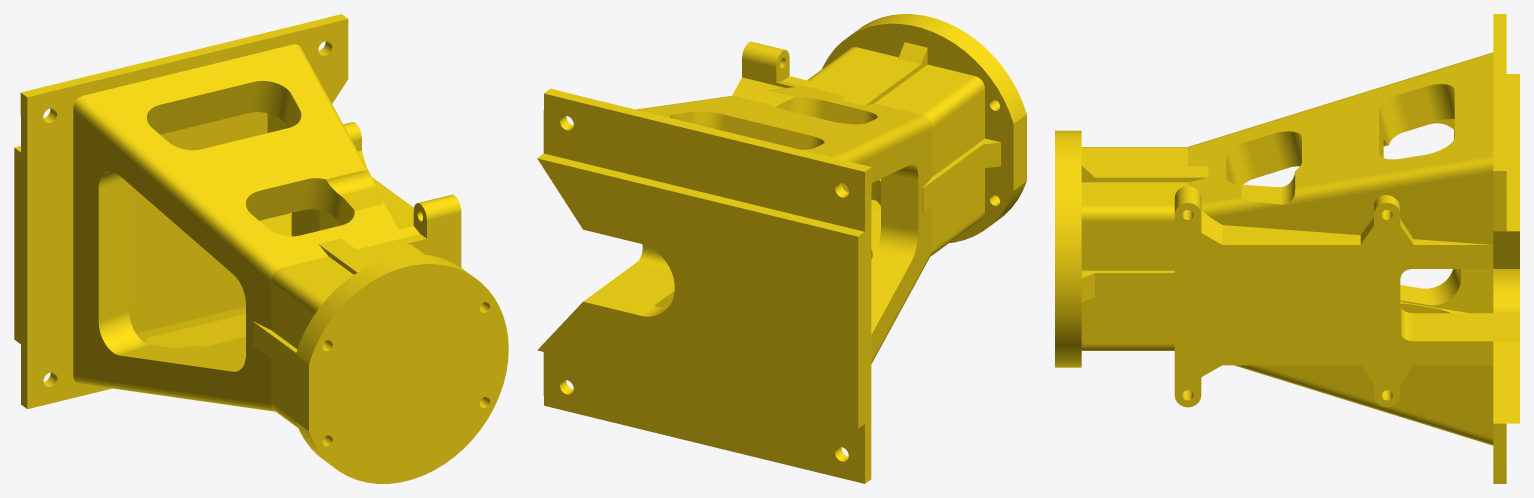
3 renders of one model, left to right at view 1: azimuth 30°, elevation 25°; view 2: azimuth 150°, elevation 25°; view 3: azimuth 270°, elevation 25°, orthographic.
Parts seen in each view (by area): view 1: mesh11815, mesh11936, mesh11919, mesh11981, mesh11941, mesh11847, mesh11983, mesh11910, mesh11816, mesh11937, mesh11914, mesh11846 (+22 smaller); view 2: mesh11903, mesh11916, mesh11920, mesh11821, mesh11936, mesh11981, mesh11910, mesh11816, mesh11899, mesh11831, mesh11839, mesh11840 (+18 smaller); view 3: mesh11893, mesh11936, mesh11878, mesh11868, mesh11816, mesh11881, mesh11823, mesh11822, mesh11899, mesh11840, mesh11904, mesh11909 (+24 smaller).
Boxes of the visible parts, <box> form: mesh11815: <box>309,264,508,483</box>; mesh11936: <box>84,45,419,267</box>; mesh11919: <box>27,19,348,409</box>; mesh11981: <box>73,110,271,402</box>; mesh11941: <box>129,112,267,333</box>; mesh11847: <box>73,95,281,281</box>; mesh11983: <box>98,179,129,321</box>; mesh11910: <box>14,117,27,408</box>; mesh11816: <box>296,254,470,464</box>; mesh11937: <box>156,82,253,134</box>; mesh11914: <box>21,20,324,97</box>; mesh11846: <box>73,374,274,411</box>; mesh11903: <box>537,158,858,428</box>; mesh11916: <box>543,93,864,231</box>; mesh11920: <box>543,352,864,483</box>; mesh11821: <box>822,23,1013,242</box>; mesh11936: <box>639,81,920,156</box>; mesh11981: <box>842,129,931,359</box>; mesh11910: <box>858,191,871,483</box>; mesh11816: <box>851,14,1026,226</box>; mesh11899: <box>583,263,674,315</box>; mesh11831: <box>932,91,984,176</box>; mesh11839: <box>875,64,972,114</box>; mesh11840: <box>783,48,898,96</box>; mesh11893: <box>1174,203,1493,407</box>; mesh11936: <box>1188,54,1493,202</box>; mesh11878: <box>1212,172,1493,244</box>; mesh11868: <box>1260,365,1493,437</box>; mesh11816: <box>1055,130,1081,367</box>; mesh11881: <box>1201,155,1493,218</box>; mesh11823: <box>1081,222,1174,270</box>; mesh11822: <box>1081,297,1174,342</box>; mesh11899: <box>1413,313,1519,341</box>; mesh11840: <box>1081,182,1187,204</box>; mesh11904: <box>1493,341,1519,423</box>; mesh11909: <box>1506,74,1519,231</box>.
Bounding box in the file's own units: 0.1401 × 0.1301 × 0.175.
